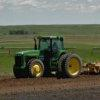Tractor: (8, 26, 88, 86)
